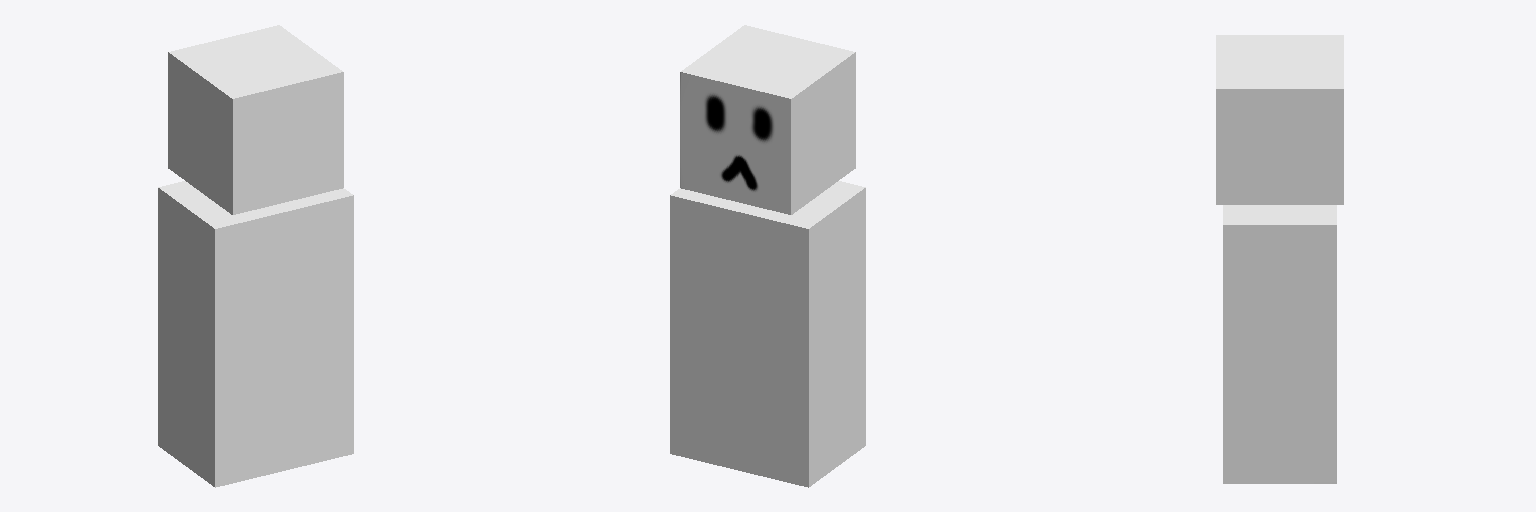
3 views of the same model, side by side, from view 1: azimuth 30°, elevation 25°; view 2: azimuth 150°, elevation 25°; view 3: azimuth 270°, elevation 25° (orthographic).
Parts seen in each view (by area): view 1: boss; view 2: boss; view 3: boss.
Part boxes in pixels (x1,y1,x2,y2): boss: (158,25,353,487); boss: (670,25,865,487); boss: (1216,35,1343,483).
Size of the model in its own units: 7.85 by 21 by 6.3.
Materials: 1 (1 with a texture image).